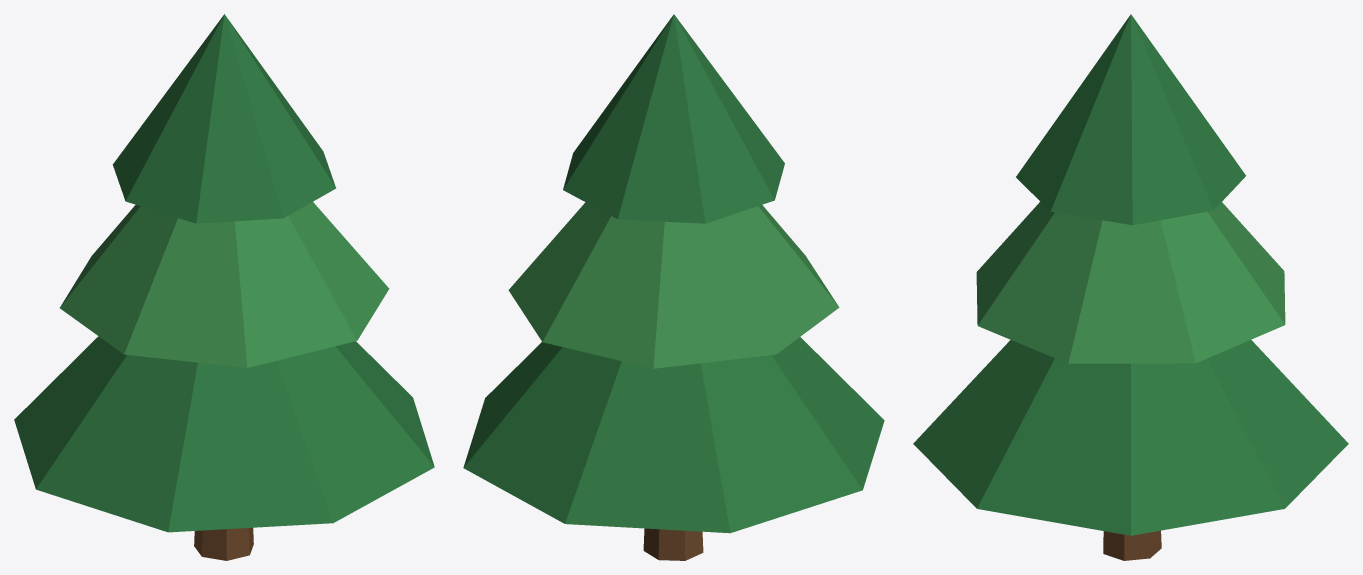
File: tree.glb
3 renders of one model, left to right at view 1: azimuth 30°, elevation 25°; view 2: azimuth 150°, elevation 25°; view 3: azimuth 270°, elevation 25°, orthographic.
Parts seen in each view (by area): view 1: Tree; view 2: Tree; view 3: Tree.
Part boxes in pixels (x1,y1,x2,y2): Tree: (14, 14, 434, 560); Tree: (463, 14, 884, 560); Tree: (913, 14, 1348, 560).
Bounding box in the file's own units: 1.7 × 2.3 × 1.7.
